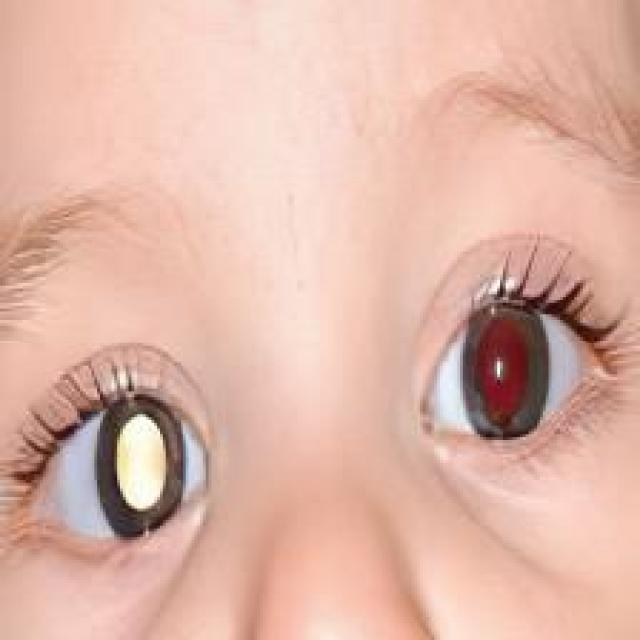reflexo-alterado: (19, 366, 213, 585)
reflexo-normal: (402, 304, 572, 452)
